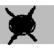not correct: (3, 5, 42, 46)
